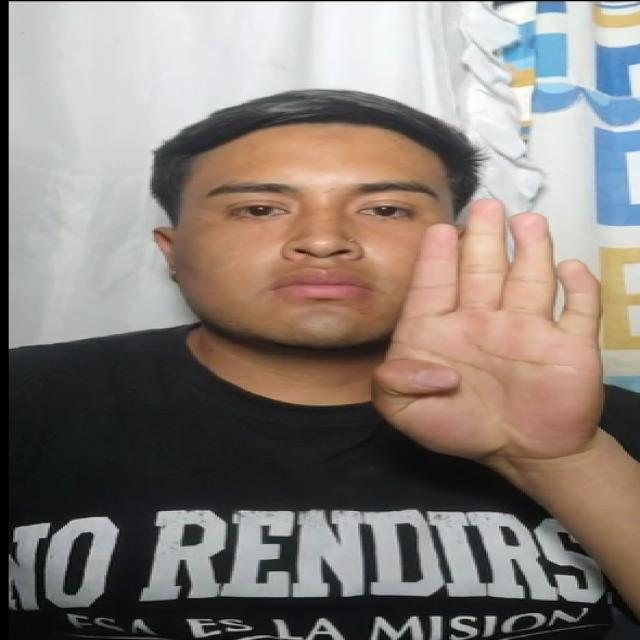B: (369, 192, 617, 464)
